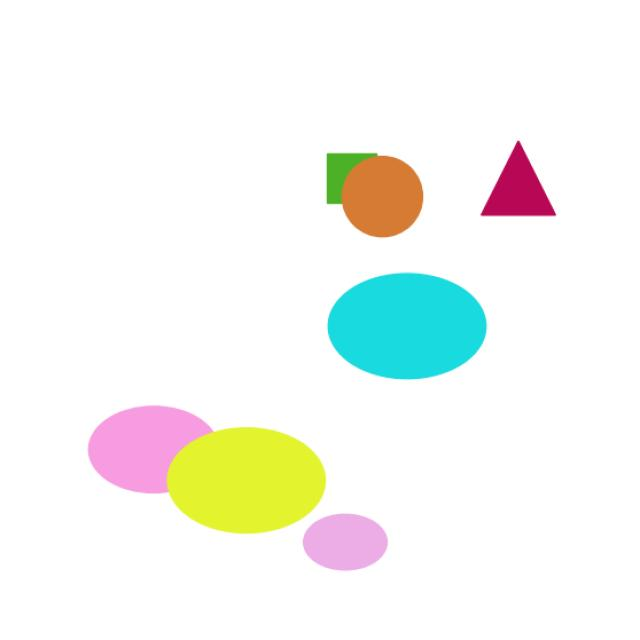Circle: (340, 147, 436, 239)
Oval: (321, 266, 518, 389), (157, 432, 336, 538), (86, 400, 232, 502), (289, 508, 422, 580)
Triangle: (473, 128, 562, 234)
square: (311, 146, 397, 212)
